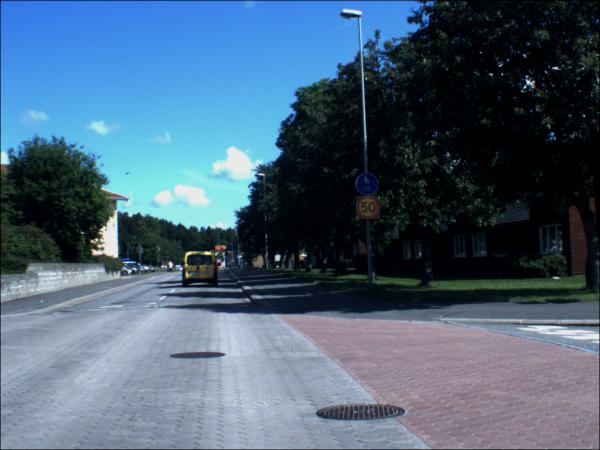50_SIGN: (357, 197, 382, 221)
